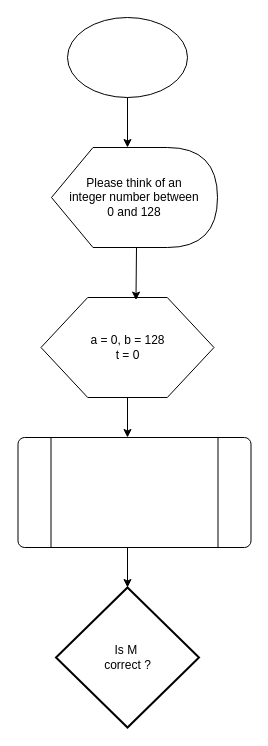
Some shapes in this 268 by 746 pixel diagram are drawn without their labels. Each missing label, with the box of its shape:
M = (a+b)/2 t = t+1: (17, 436, 251, 548)
START: (66, 16, 188, 98)
